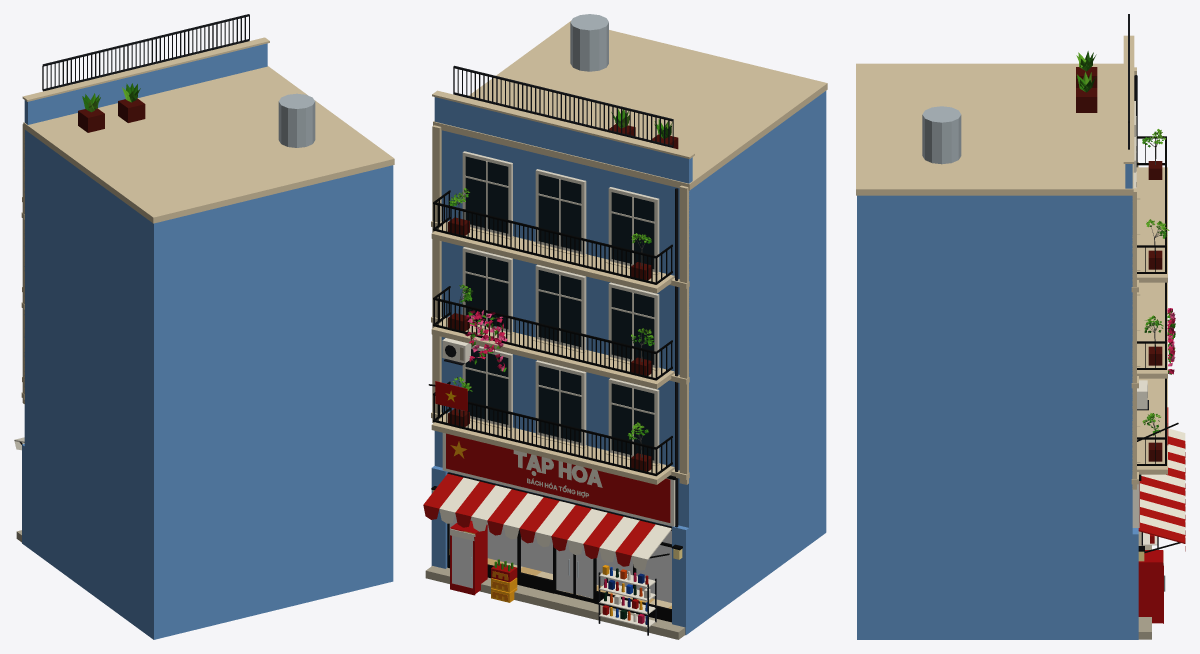
File: PV_StreetShop03.fbx
3 views of the same model, side by side, from view 1: azimuth 30°, elevation 25°; view 2: azimuth 150°, elevation 25°; view 3: azimuth 270°, elevation 25° (orthographic). The views are drawn at different scales.
Visible parts, largest first — view 1: PV_StreetShop03_LOD0; view 2: PV_StreetShop03_LOD0; view 3: PV_StreetShop03_LOD0.
Part boxes in pixels (left/top/right/bottom): PV_StreetShop03_LOD0: left=14, top=14, right=394, bottom=639; PV_StreetShop03_LOD0: left=423, top=14, right=827, bottom=639; PV_StreetShop03_LOD0: left=856, top=14, right=1185, bottom=639.
Size of what is drawn, in the model's own units: 8.46 by 15.94 by 9.34.
2 materials, 1 textured.
